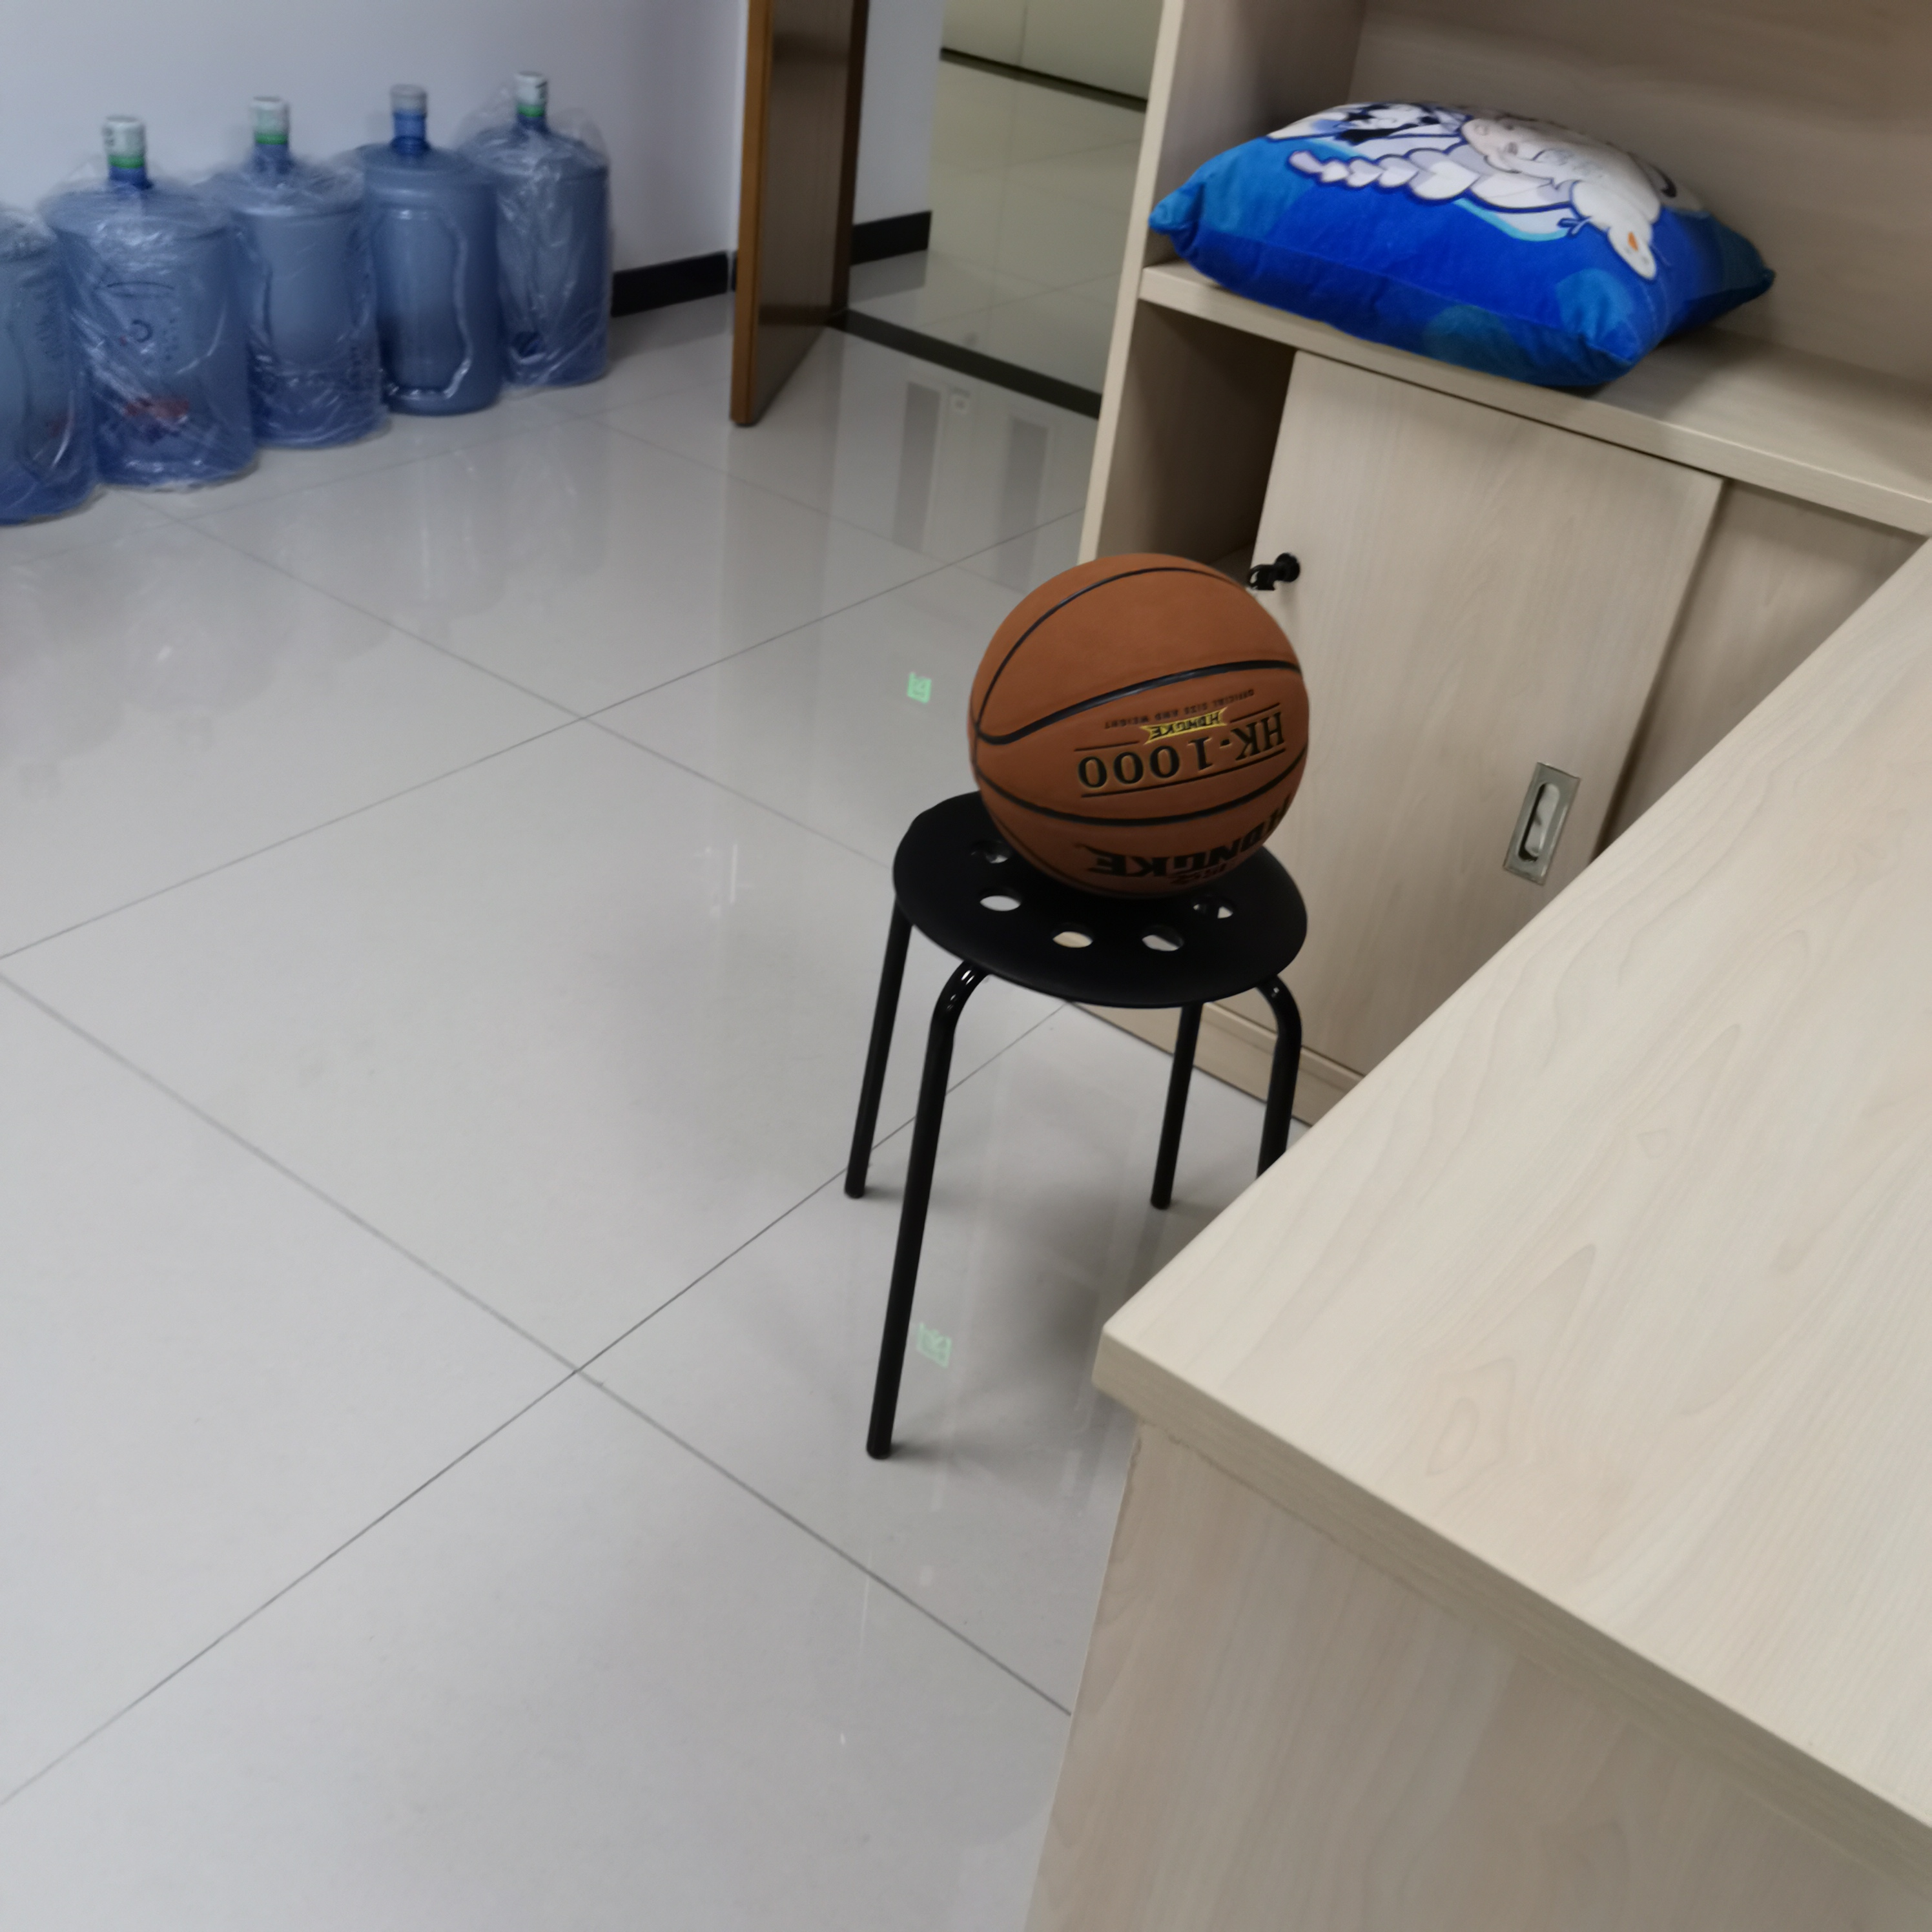basketball: (975, 554, 1309, 890)
